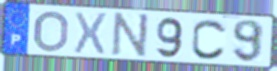9: (231, 18, 266, 65), (155, 16, 185, 59)
C: (190, 18, 229, 62)
N: (109, 11, 151, 60)
O: (32, 10, 71, 54)
X: (72, 10, 109, 57)
